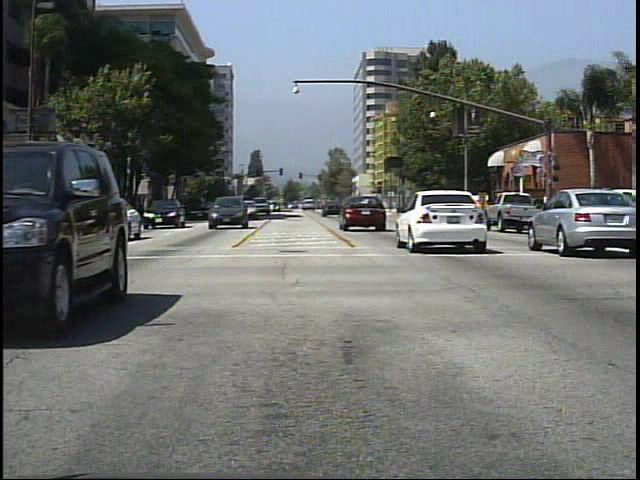person: (536, 193, 554, 228), (496, 189, 513, 224)
